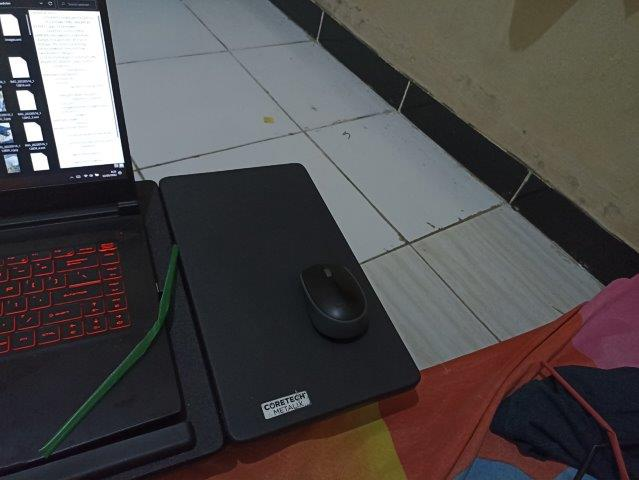sedotan: (44, 246, 177, 453), (542, 361, 628, 480)
